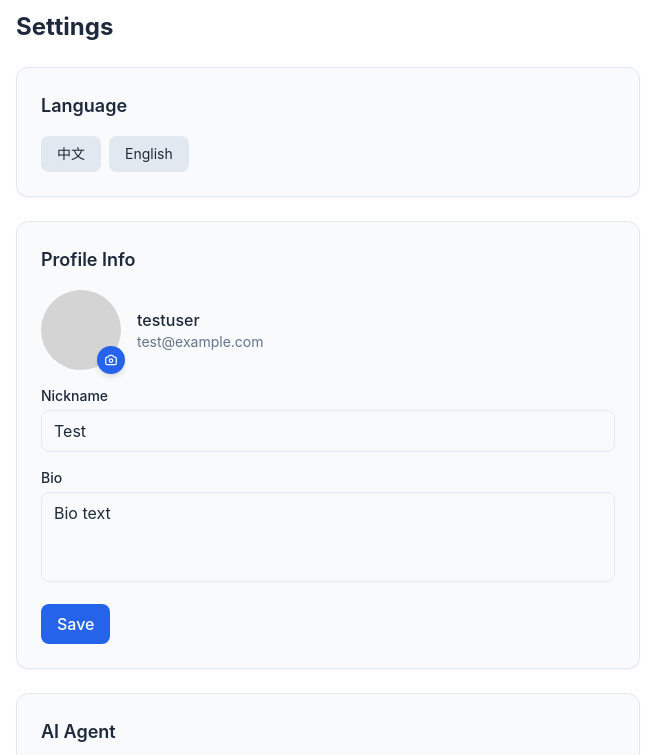
it: SettingsPage › should show success message after saving
Click the button "Save": (76, 624) [41,604,110,644]
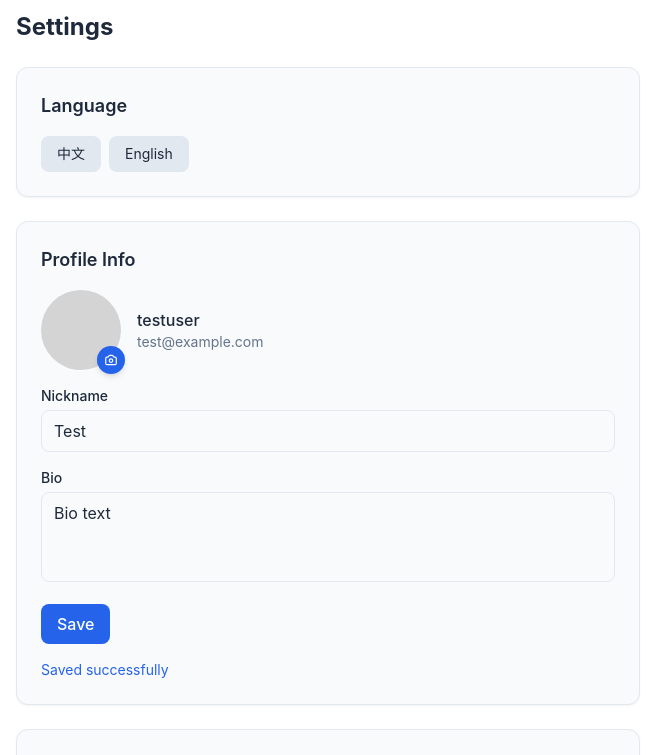
Expected: the text "Saved successfully" is shown, [41,661,169,678]
